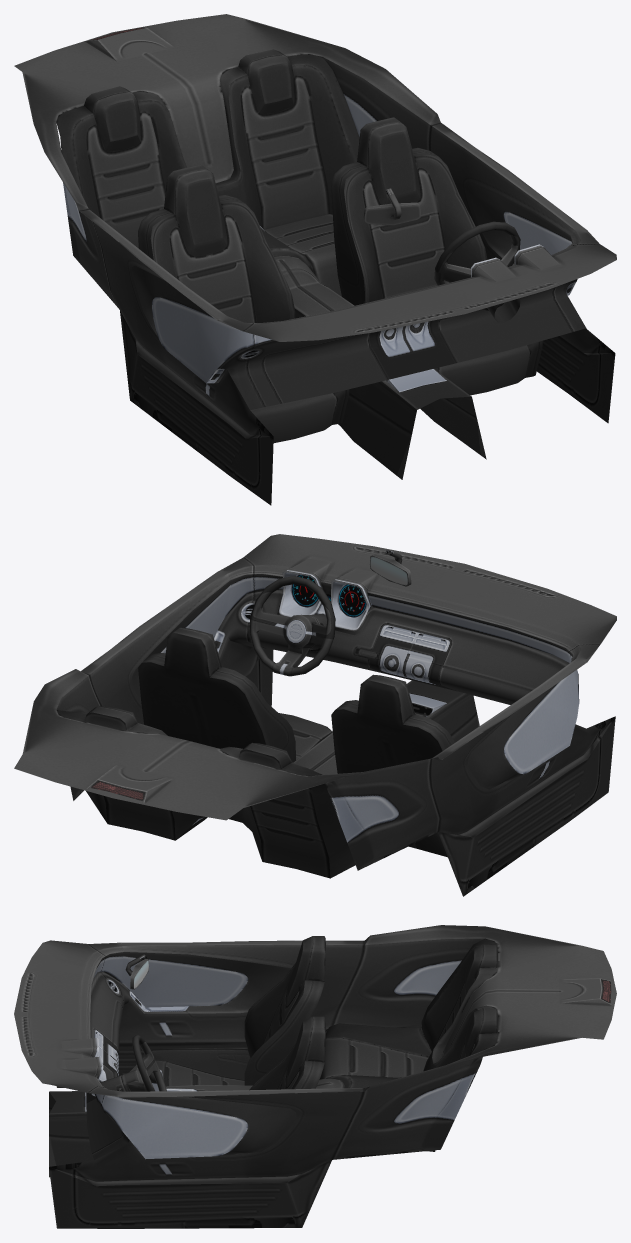
File: Car_03_Interior.FBX
3 views of the same model, one above another, from view 1: azimuth 30°, elevation 25°; view 2: azimuth 150°, elevation 25°; view 3: azimuth 270°, elevation 25° (orthographic). The views are drawn at different scales.
Parts seen in each view (by area): view 1: Interior_3; view 2: Interior_3; view 3: Interior_3.
Part boxes in pixels (left/top/right/bottom): Interior_3: left=14, top=14, right=616, bottom=505; Interior_3: left=14, top=534, right=616, bottom=896; Interior_3: left=14, top=925, right=616, bottom=1228.
Bounding box in the file's own units: 1.57 × 2.59 × 0.9714.
Materials: 1 (1 with a texture image).
